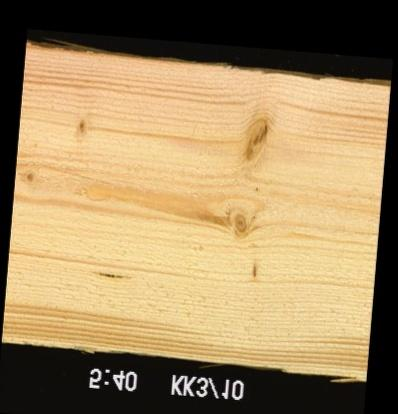small_knot: (76, 116, 87, 135), (23, 170, 33, 184), (249, 261, 256, 278)
sound_knot: (241, 115, 269, 167), (226, 209, 252, 235)
wave: (222, 67, 390, 82)
